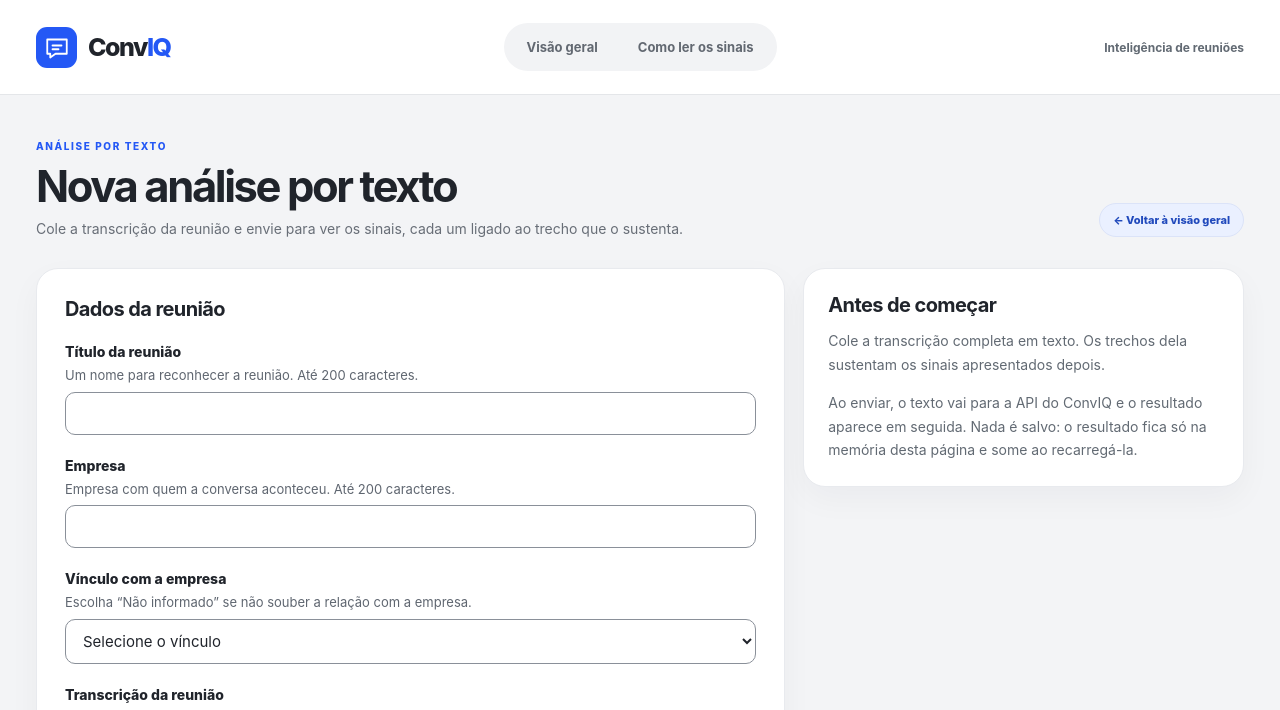
estados do envio › sucesso: navega para o resultado, com título do documento e foco no h1
The width and height of the screenshot is (1280, 710).
In the field labelled "Título da reunião": (411, 413) [65,392,756,435], type "  Renovação Acme  "
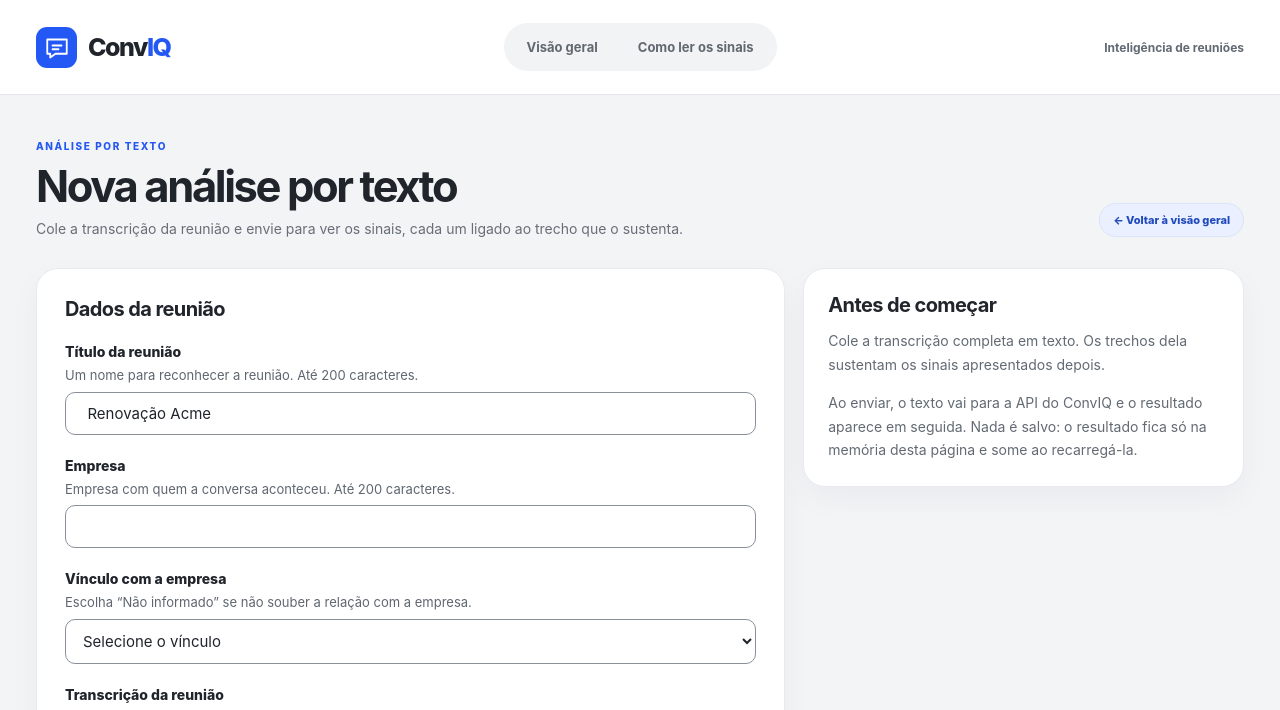
In the field labelled "Empresa": (411, 527) [65,505,756,548], type "Acme"
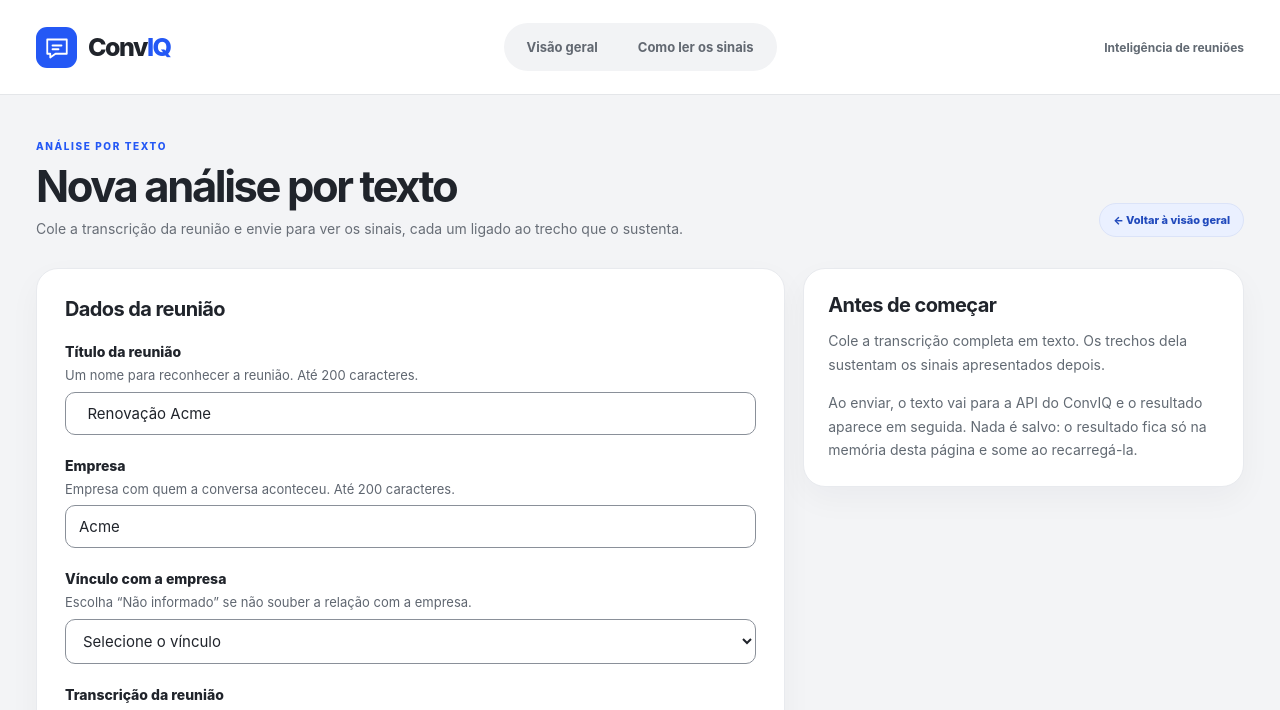
Select "Cliente" in the dropdown labelled "Vínculo com a empresa": (411, 641) [65,619,756,664]
(page scrolled)
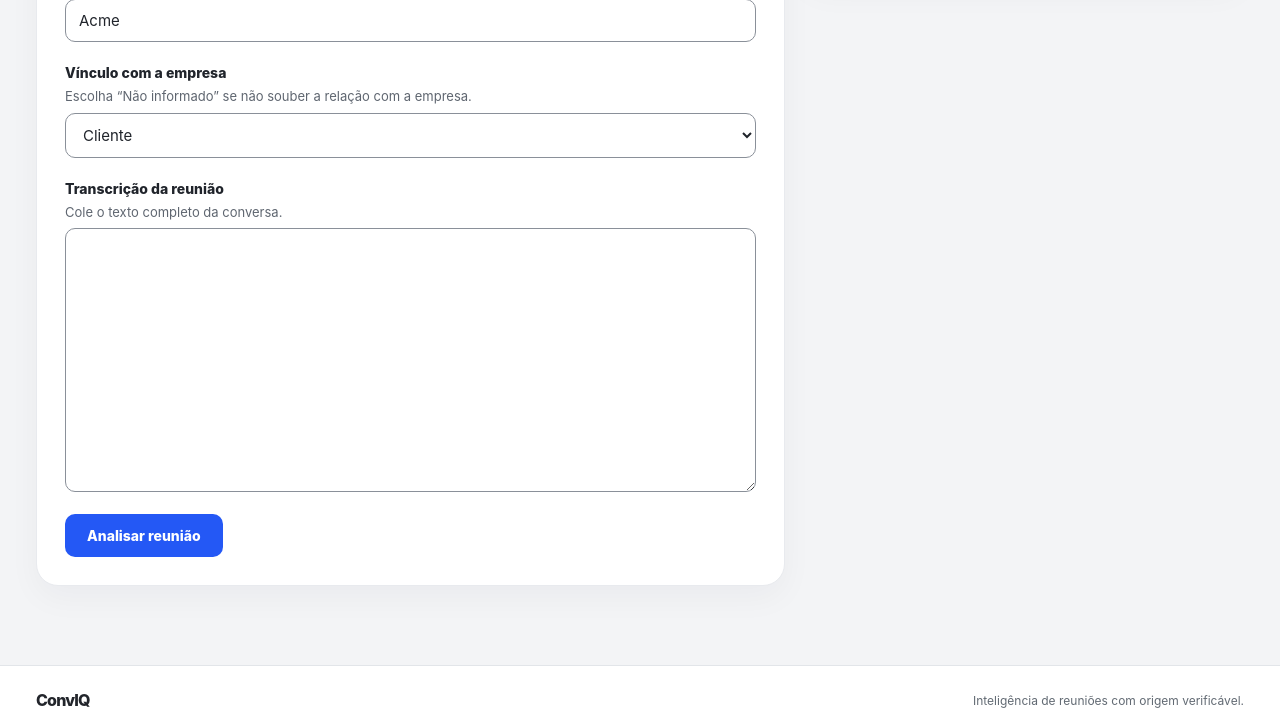
In the text box labelled "Transcrição da reunião": (411, 360) [65,228,756,492], type " Estamos insatisfeitos com o suporte. "
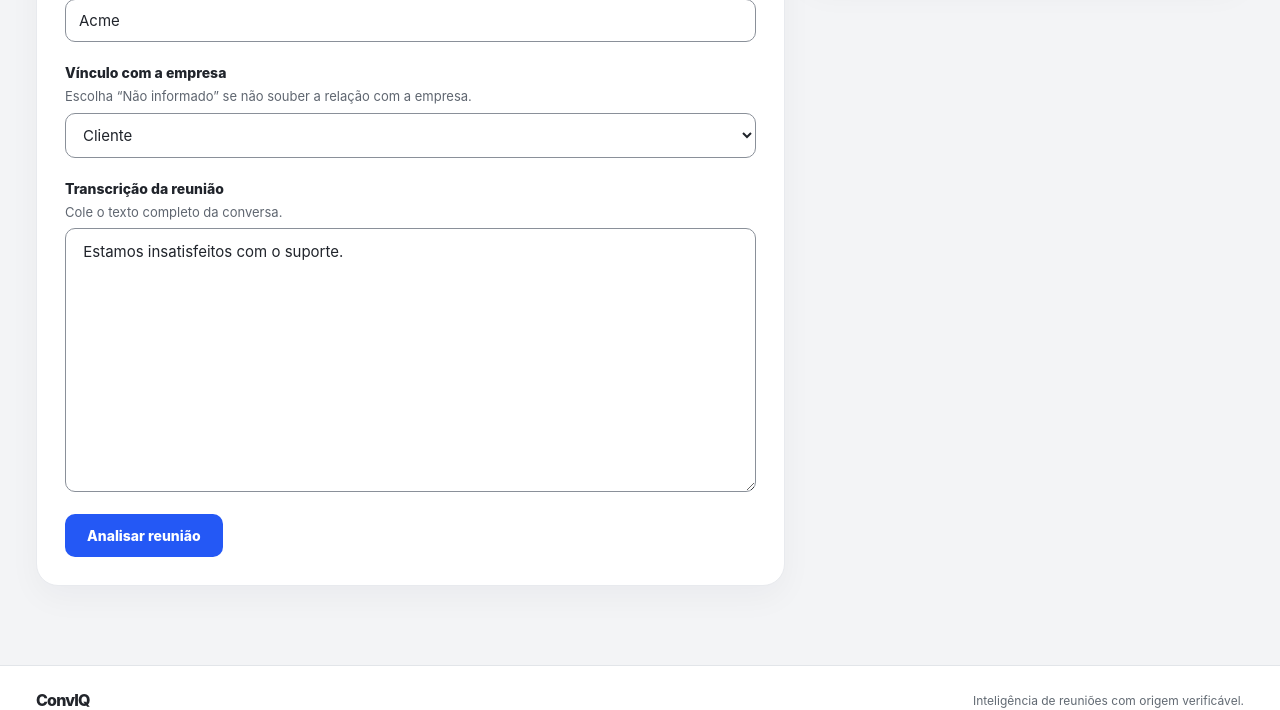
Click the button "Analisar reunião": (144, 536) [65,514,223,557]
(page scrolled)
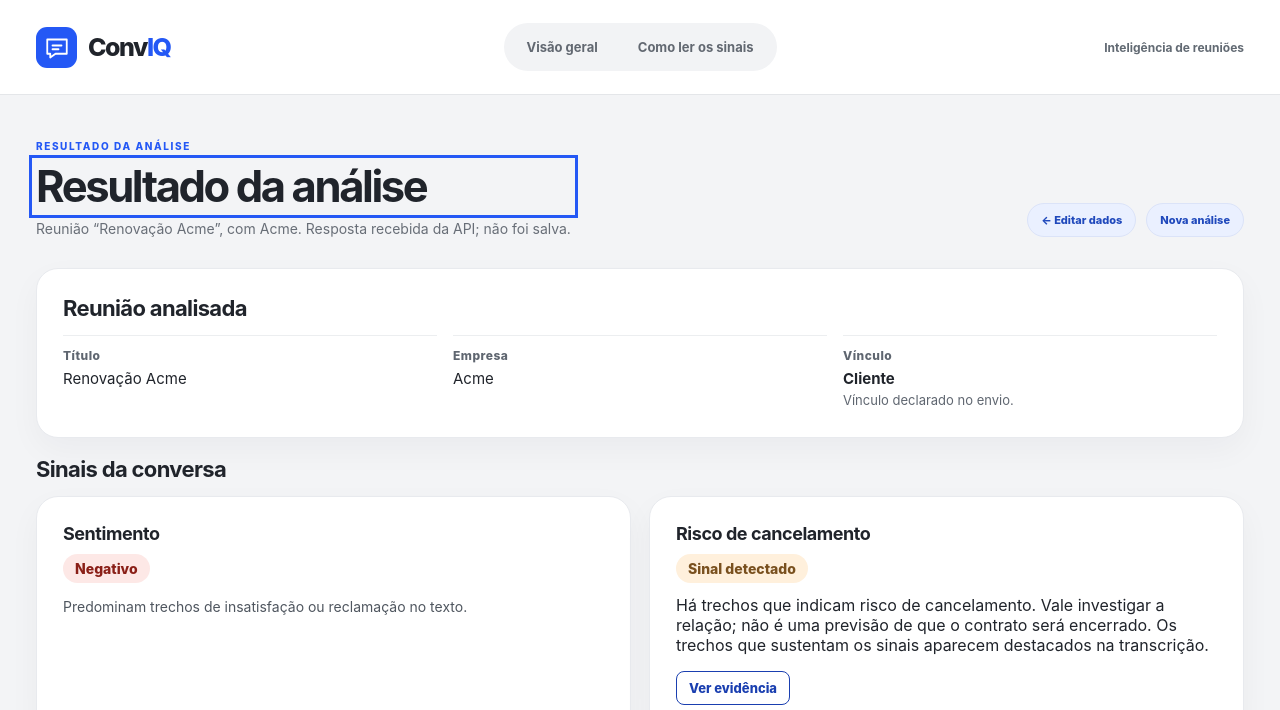
Result: the heading "Resultado da análise" is shown at [36,160,426,212]
